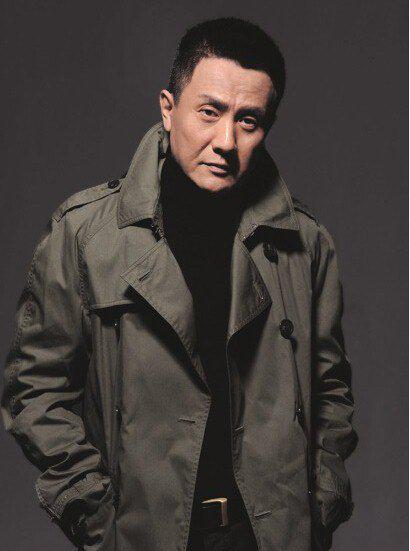people: (61, 43, 359, 513)
